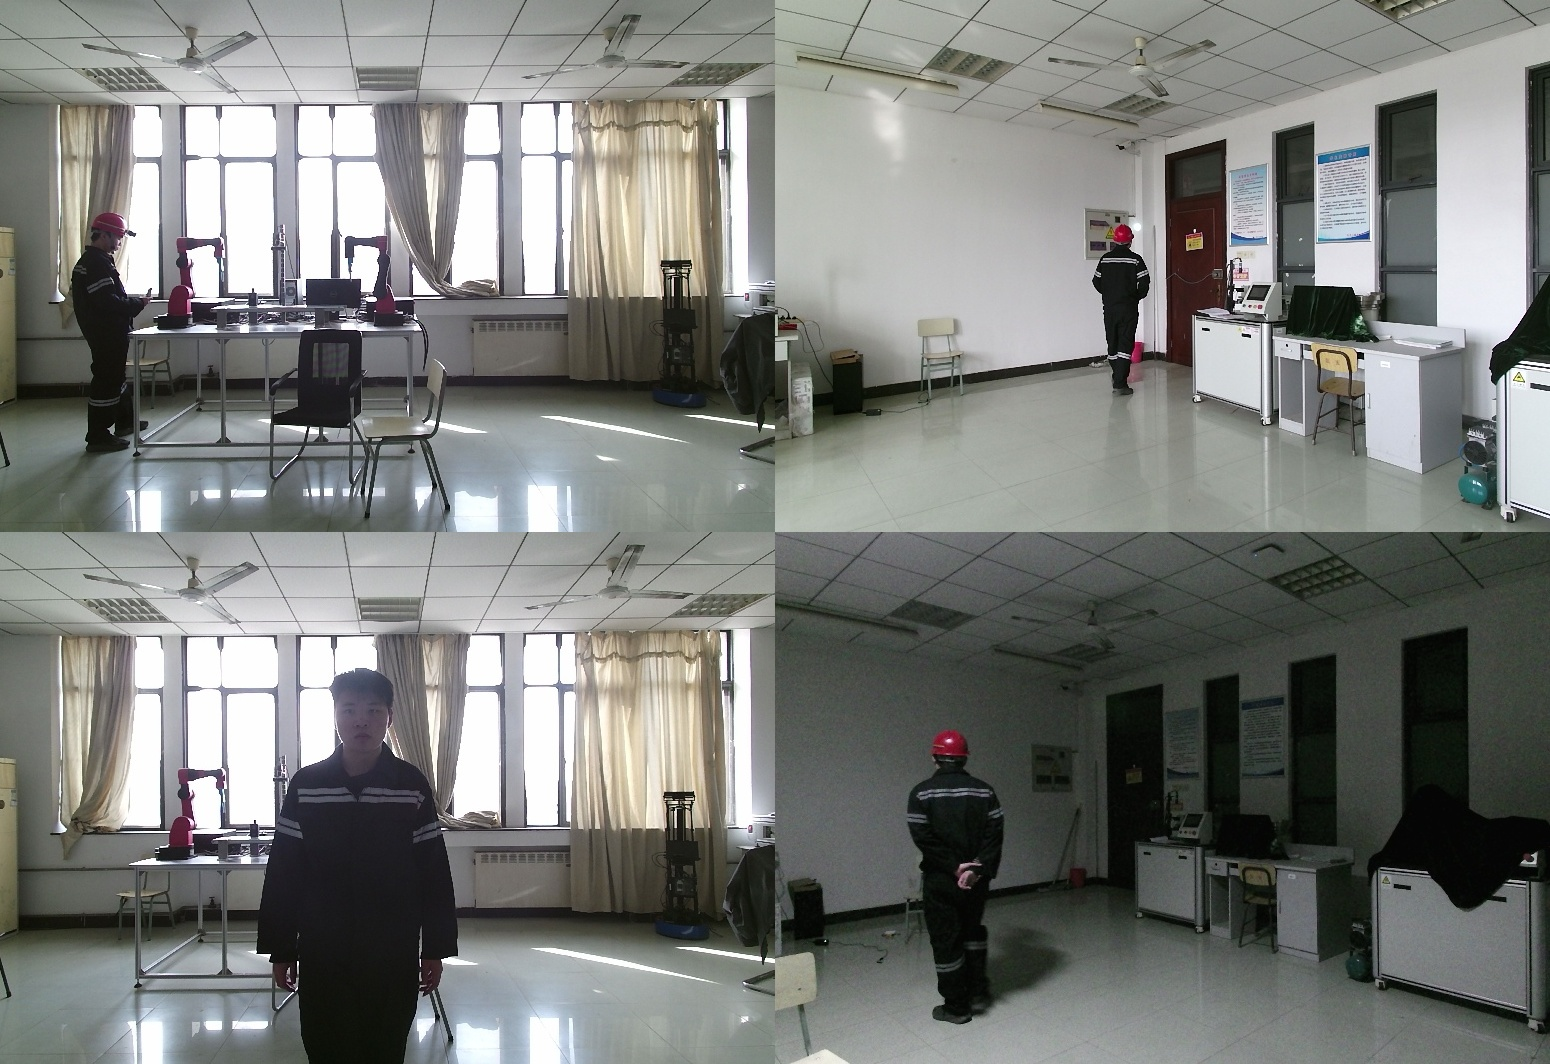person: (267, 667, 476, 1064), (905, 733, 1025, 1022), (69, 211, 153, 452), (1089, 226, 1154, 405)
